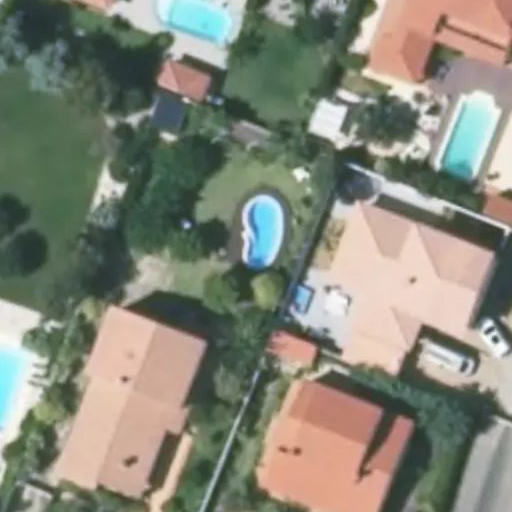pool: (439, 95, 502, 188), (158, 1, 231, 46), (242, 198, 285, 270), (1, 341, 26, 447)
